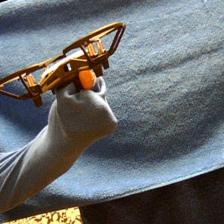drone: (1, 22, 127, 104)
